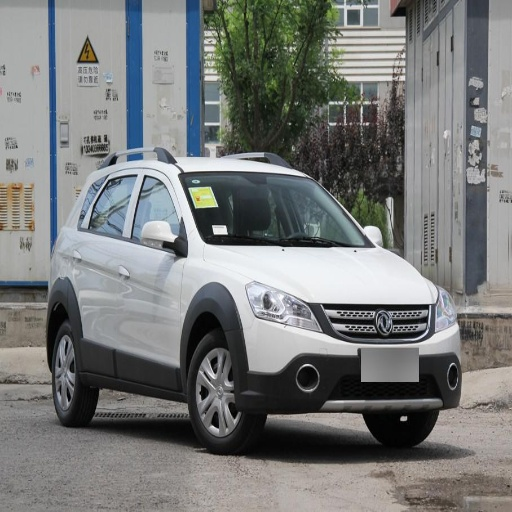front_bumper: (242, 302, 460, 413)
front_right_door: (116, 170, 188, 387)
front_right_light: (247, 281, 321, 330)
hood: (231, 246, 437, 301)
